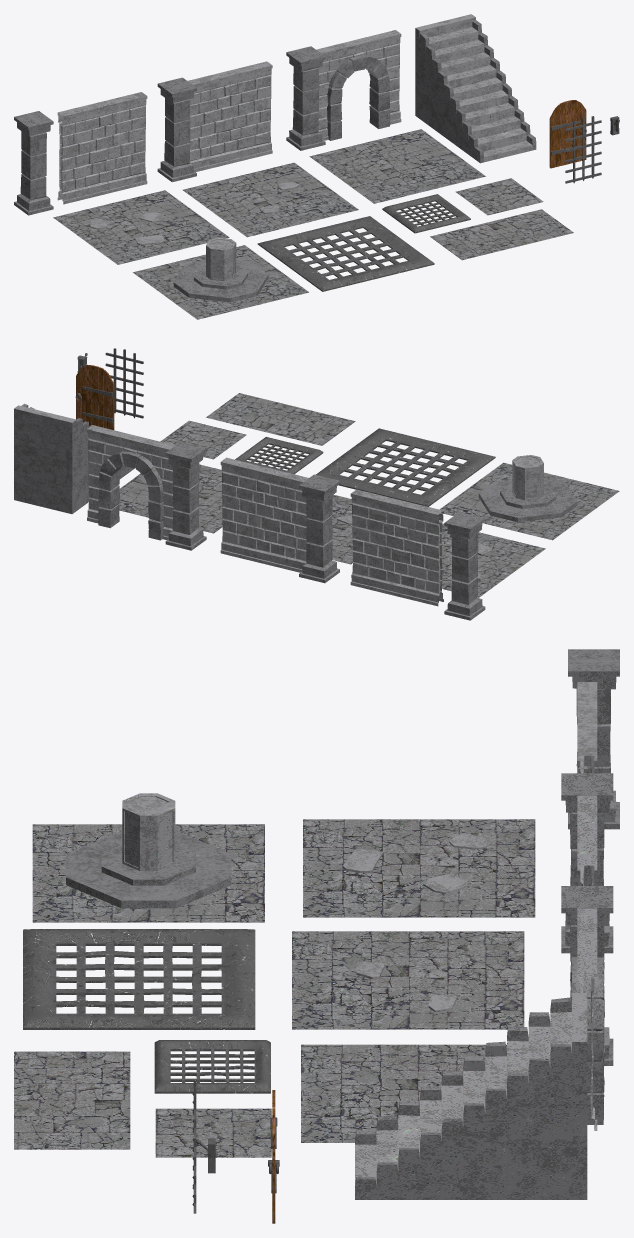
The model's file is ModularDungeonFree.gltf.
3 views of the same model, one above another, from view 1: azimuth 30°, elevation 25°; view 2: azimuth 150°, elevation 25°; view 3: azimuth 270°, elevation 25° (orthographic). The views are drawn at different scales.
Visible parts, largest first — view 1: Stairs, Wall, Doorway, BaseWall, Altar, Floor1, Floor2, Floor3, Grille, Half_Floor1, BasePillar, Door (+3 smaller); view 2: Wall, Doorway, BaseWall, Altar, Stairs, Grille, Half_Floor1, BasePillar, Floor3, Floor1, Door, GrilleSmall (+3 smaller); view 3: Stairs, Altar, Floor3, Floor2, Grille, Floor1, Half_Floor1, Doorway, GrilleSmall, Quarter_floor, Wall, BasePillar (+1 smaller).
Boxes of the visible parts, bbox=[...] form: Stairs: bbox=[415, 14, 536, 163]; Wall: bbox=[157, 61, 272, 182]; Doorway: bbox=[286, 30, 401, 150]; BaseWall: bbox=[57, 92, 147, 204]; Altar: bbox=[133, 237, 308, 319]; Floor1: bbox=[309, 129, 485, 203]; Floor2: bbox=[183, 162, 358, 237]; Floor3: bbox=[53, 190, 229, 264]; Grille: bbox=[257, 216, 434, 291]; Half_Floor1: bbox=[430, 209, 573, 260]; BasePillar: bbox=[14, 111, 53, 215]; Door: bbox=[549, 100, 586, 168]; Wall: bbox=[220, 457, 339, 583]; Doorway: bbox=[87, 425, 206, 550]; BaseWall: bbox=[350, 489, 443, 606]; Altar: bbox=[439, 455, 619, 540]; Stairs: bbox=[14, 403, 133, 513]; Grille: bbox=[316, 428, 495, 506]; Half_Floor1: bbox=[206, 393, 355, 445]; BasePillar: bbox=[444, 512, 485, 620]; Floor3: bbox=[441, 523, 545, 597]; Floor1: bbox=[119, 464, 222, 533]; Door: bbox=[75, 364, 114, 429]; GrilleSmall: bbox=[235, 437, 323, 474]; Stairs: bbox=[355, 993, 587, 1199]; Altar: bbox=[32, 793, 264, 922]; Floor3: bbox=[303, 819, 535, 917]; Floor2: bbox=[292, 931, 524, 1029]; Grille: bbox=[23, 929, 255, 1029]; Floor1: bbox=[301, 1044, 506, 1142]; Half_Floor1: bbox=[14, 1051, 130, 1149]; Doorway: bbox=[561, 886, 613, 1130]; GrilleSmall: bbox=[154, 1040, 270, 1093]; Quarter_floor: bbox=[155, 1108, 271, 1157]; Wall: bbox=[561, 773, 613, 953]; BasePillar: bbox=[568, 649, 619, 829].
Size of the model in its own units: 17.5 by 3.03 by 10.43.
Materials: 5 (5 with a texture image).
